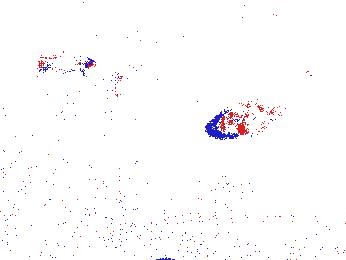X-ray fish: (205, 99, 288, 142)
red belly glassfish: (288, 54, 318, 78)
redtail glassfish: (29, 48, 101, 76)
